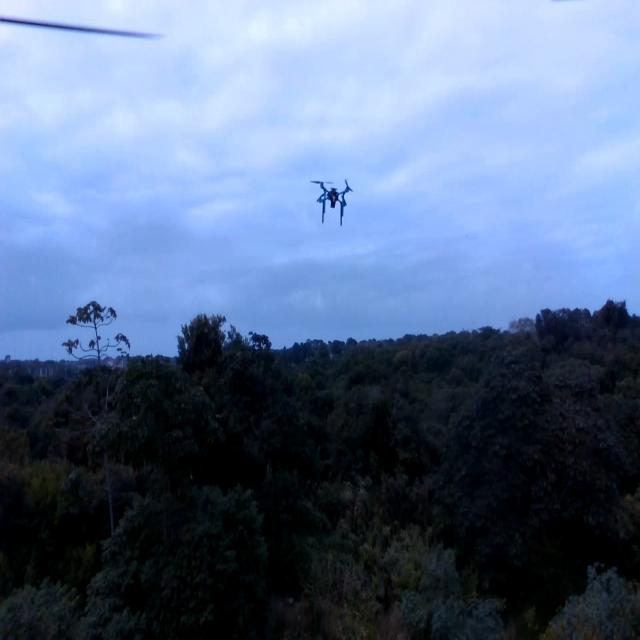-uav-: (300, 168, 360, 238)
